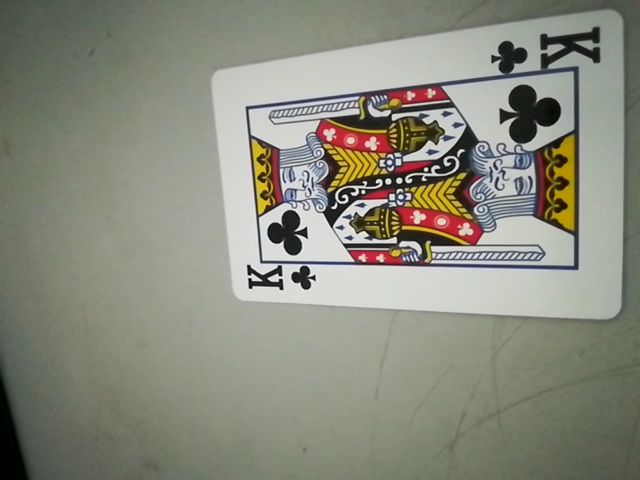mh k: (490, 24, 603, 77), (240, 258, 322, 299)
